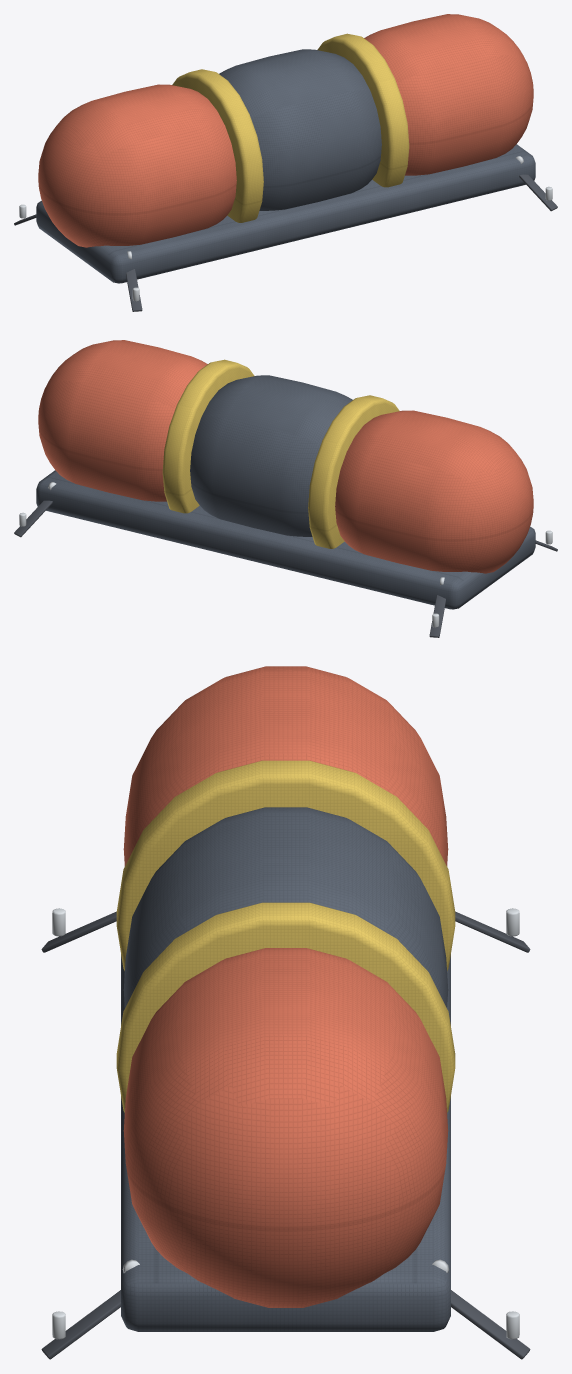
Rendered from bunker_snake_red.glb.
3 renders of one model, top to bottom at view 1: azimuth 30°, elevation 25°; view 2: azimuth 150°, elevation 25°; view 3: azimuth 270°, elevation 25°, orthographic. The views are drawn at different scales.
Visible parts, largest first — view 1: SnakeSeg_0, SnakeSeg_2, SnakeSeg_1, SnakeSkirt, SnakeBand_0.58, SnakeBand_-0.58, Strap_1, Strap_0; view 2: SnakeSeg_0, SnakeSeg_2, SnakeSeg_1, SnakeSkirt, SnakeBand_0.58, SnakeBand_-0.58, Strap_2, Strap_3; view 3: SnakeSeg_2, SnakeSeg_1, SnakeSeg_0, SnakeSkirt, SnakeBand_-0.58, SnakeBand_0.58, Strap_1, Strap_2.
Boxes of the visible parts, bbox=[...] form: SnakeSeg_0: bbox=[38, 84, 236, 247]; SnakeSeg_2: bbox=[364, 14, 533, 175]; SnakeSeg_1: bbox=[219, 49, 381, 210]; SnakeSkirt: bbox=[36, 144, 535, 283]; SnakeBand_0.58: bbox=[317, 33, 409, 187]; SnakeBand_-0.58: bbox=[172, 69, 263, 222]; Strap_1: bbox=[519, 174, 557, 211]; Strap_0: bbox=[126, 269, 142, 311]; SnakeSeg_0: bbox=[335, 410, 533, 573]; SnakeSeg_2: bbox=[38, 340, 207, 501]; SnakeSeg_1: bbox=[190, 375, 352, 536]; SnakeSkirt: bbox=[36, 470, 535, 609]; SnakeBand_0.58: bbox=[162, 359, 254, 513]; SnakeBand_-0.58: bbox=[308, 395, 399, 548]; Strap_2: bbox=[14, 500, 52, 537]; Strap_3: bbox=[429, 595, 445, 637]; SnakeSeg_2: bbox=[123, 948, 448, 1307]; SnakeSeg_1: bbox=[123, 807, 448, 1007]; SnakeSeg_0: bbox=[123, 666, 448, 866]; SnakeSkirt: bbox=[121, 954, 450, 1331]; SnakeBand_-0.58: bbox=[116, 760, 455, 970]; SnakeBand_0.58: bbox=[116, 902, 455, 1112]; Strap_1: bbox=[41, 1290, 120, 1359]; Strap_2: bbox=[451, 1290, 530, 1359].
Bounding box in the file's own units: 3.78 × 1.2 × 1.69.
Materials: 5 (3 with a texture image).
